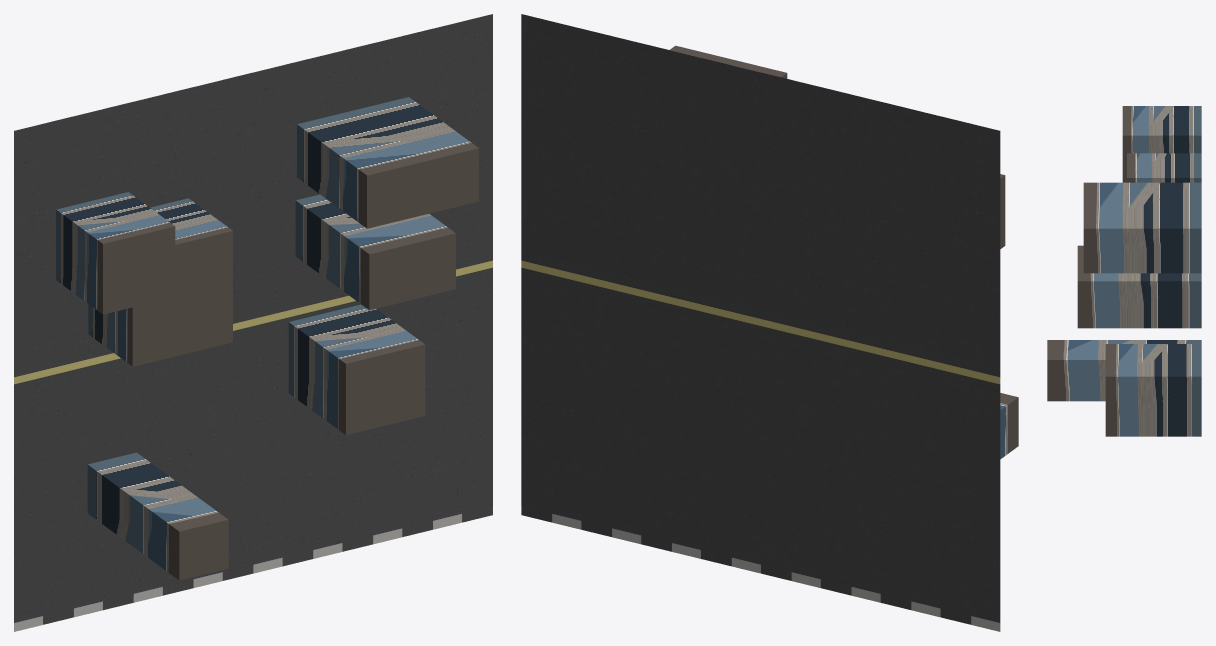
3 renders of one model, left to right at view 1: azimuth 30°, elevation 25°; view 2: azimuth 150°, elevation 25°; view 3: azimuth 270°, elevation 25°, orthographic. The views are drawn at different scales.
Size of the model in its own units: 119 by 119 by 39.59.
Materials: 2 (2 with a texture image).
